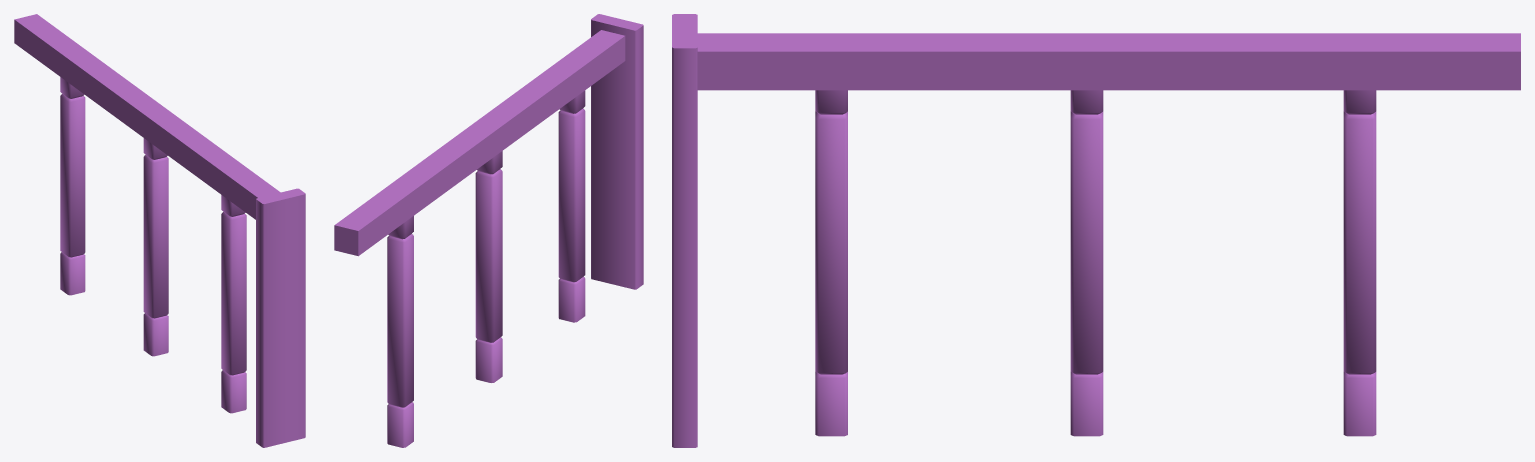
Rendered from BrickHouse_Deco_Handrail_A.fbx.
3 views of the same model, side by side, from view 1: azimuth 30°, elevation 25°; view 2: azimuth 150°, elevation 25°; view 3: azimuth 270°, elevation 25° (orthographic). The views are drawn at different scales.
Visible parts, largest first — view 1: BrickHouse_Deco_Handrail_A; view 2: BrickHouse_Deco_Handrail_A; view 3: BrickHouse_Deco_Handrail_A.
Part boxes in pixels (left/top/right/bottom): BrickHouse_Deco_Handrail_A: left=14, top=14, right=305, bottom=447; BrickHouse_Deco_Handrail_A: left=334, top=14, right=643, bottom=447; BrickHouse_Deco_Handrail_A: left=672, top=14, right=1520, bottom=447.
Bounding box in the file's own units: 0.19 × 1.03 × 1.98.
